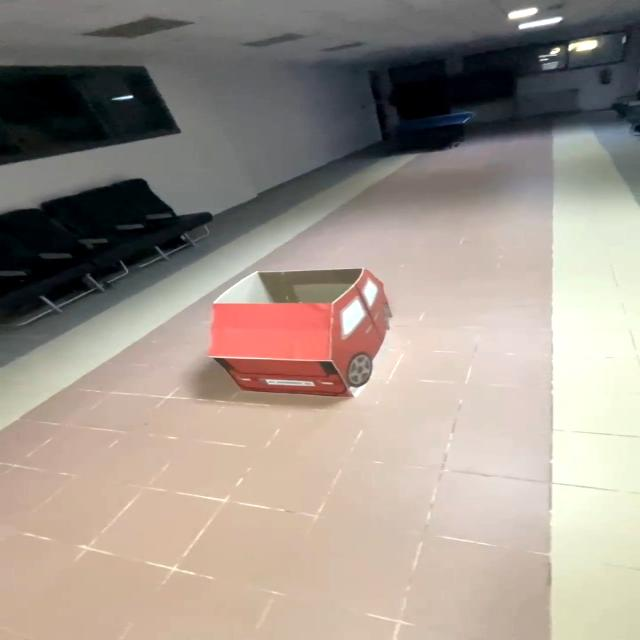red_car: (187, 254, 456, 411)
